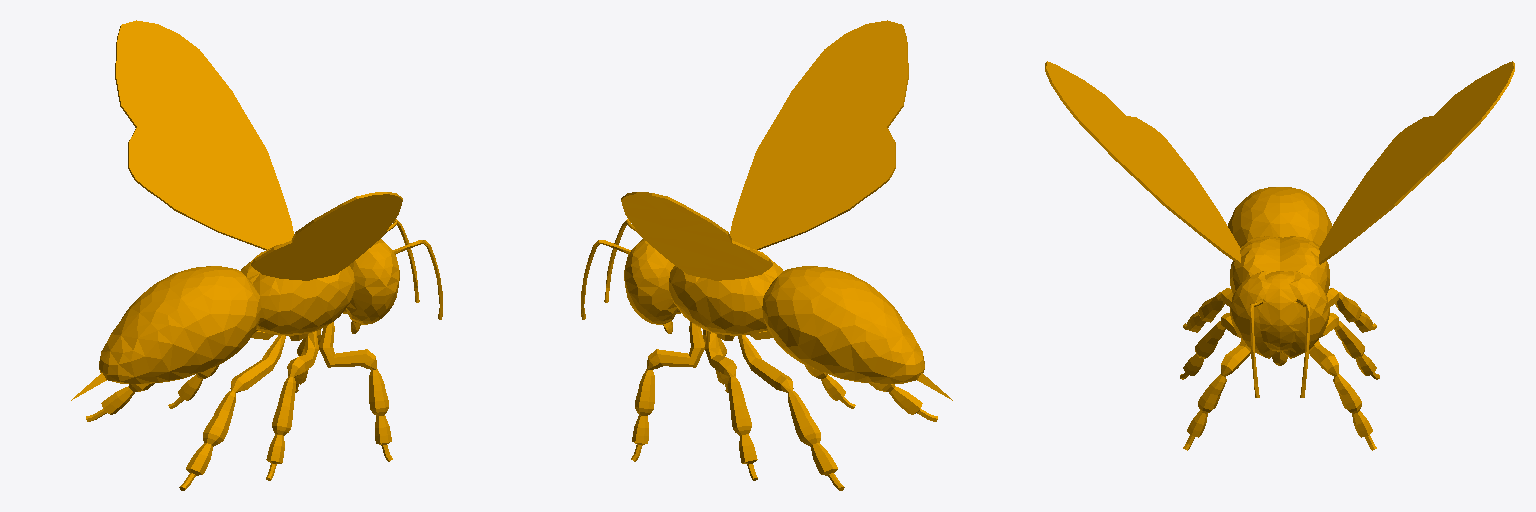
The robot description file, URDF, robot "quadrotor":
<?xml version="1.0" ?>

<!-- adapted from [author], [author], [author], "Trajectory Generation and Control for Precise Aggressive Maneuvers with Quadrotors" -->

<robot xmlns="http://drake.mit.edu"
 xmlns:xsi="http://www.w3.org/2001/XMLSchema-instance"
 xsi:schemaLocation="http://drake.mit.edu ../../../../pods/drake/doc/drakeURDF.xsd" name="quadrotor">
  <link name="base_link">
    <inertial>
      <mass value="0.5"/>
      <origin xyz="0 0 0"/>
      <inertia ixx="0.0023" ixy="0.0" ixz="0.0" iyy="0.0023" iyz="0.0" izz="0.004"/>
    </inertial>
    <visual>
      <origin rpy="0 0 0" xyz="0 0 0"/>
      <geometry>
        <mesh filename="nBEE.obj" scale="40"/>
      </geometry>
    </visual>
    <!-- note: the original hector quadrotor urdf had a (simplified, but still complex) collision mesh, too -->
    <collision>
      <origin rpy="0 1.570796326794897 0" xyz="0 0 0"/>
      <geometry>
        <cylinder radius=".4" length=".4"/>
      </geometry>
    </collision>
  </link>

  <force_element name="prop">
    <propellor lower_limit="0" upper_limit="40" scale_factor_thrust="1.0" scale_factor_moment="0">
      <parent link="base_link"/>
      <origin rpy="0 0.523598775598299 0" xyz="0 0 0"/>
      <axis rpy="0 -0.523598775598299 0" xyz="0 0 1"/>
    </propellor>
  </force_element>

  <force_element name="torq1">
    <propellor scale_factor_thrust="0" scale_factor_moment="1">
      <parent link="base_link"/>
      <origin xyz="0 0 0"/>
      <axis xyz="1 0 0"/>
    </propellor>
  </force_element>

  <force_element name="torq2">
    <propellor scale_factor_thrust="0" scale_factor_moment="1">
      <parent link="base_link"/>
      <origin xyz="0 0 0"/>
      <axis xyz="0 1 0"/>
    </propellor>
  </force_element>

  <force_element name="torq3">
    <propellor scale_factor_thrust="0" scale_factor_moment="1">
      <parent link="base_link"/>
      <origin xyz="0 0 0"/>
      <axis xyz="0 0 1"/>
    </propellor>
  </force_element>
  
</robot>

--- What the picture shows (computed from the rendered views, not written in the file) ---
3 views of the same robot in one strip: view 1: azimuth 30°, elevation 25°; view 2: azimuth 150°, elevation 25°; view 3: azimuth 270°, elevation 25° (orthographic).
Robot: quadrotor — 1 links, 0 joints (none); root link base_link; default pose: all joints at 0.
Visible links, largest first — view 1: base_link; view 2: base_link; view 3: base_link.
Link boxes in pixels (bbox=[...]): base_link: bbox=[71, 20, 442, 490]; base_link: bbox=[581, 20, 952, 490]; base_link: bbox=[1045, 61, 1514, 450].
Bounding box of the posed robot: 0.5286 × 0.6006 × 0.4779 m (x, y, z).
1 mesh visuals loaded from 1 distinct referenced files (1 OBJ).
